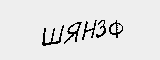З: (95, 17, 108, 41)
Н: (82, 15, 96, 44)
Ф: (108, 19, 127, 38)
Ш: (40, 24, 64, 49)
Я: (64, 17, 81, 49)
